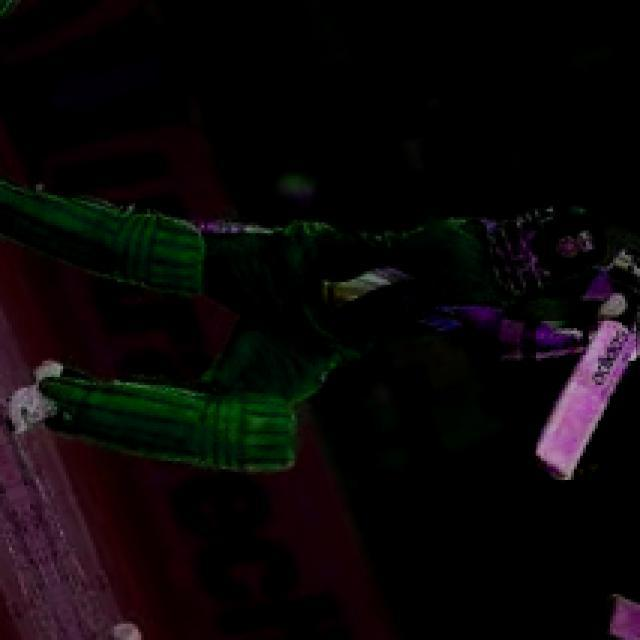bat: (532, 323, 639, 480)
toe: (532, 458, 572, 476)
